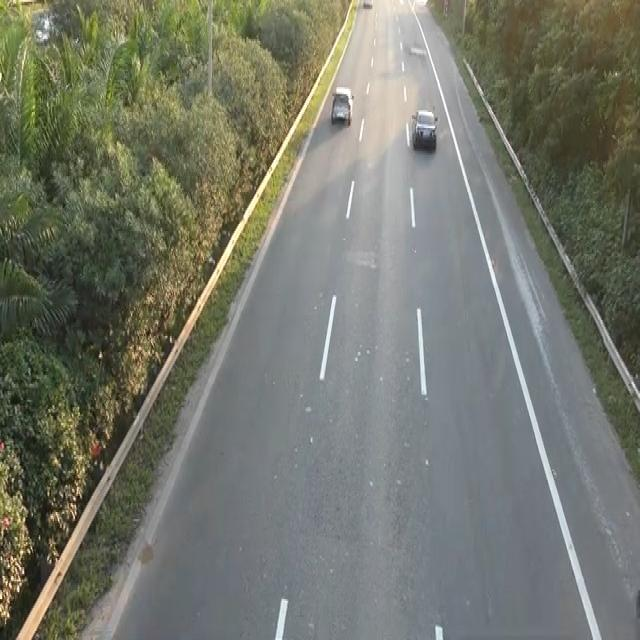bus: (411, 106, 444, 158), (329, 84, 354, 126)
